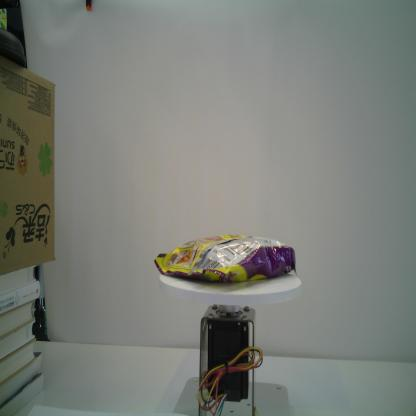Instant Noodles: (154, 233, 297, 282)
